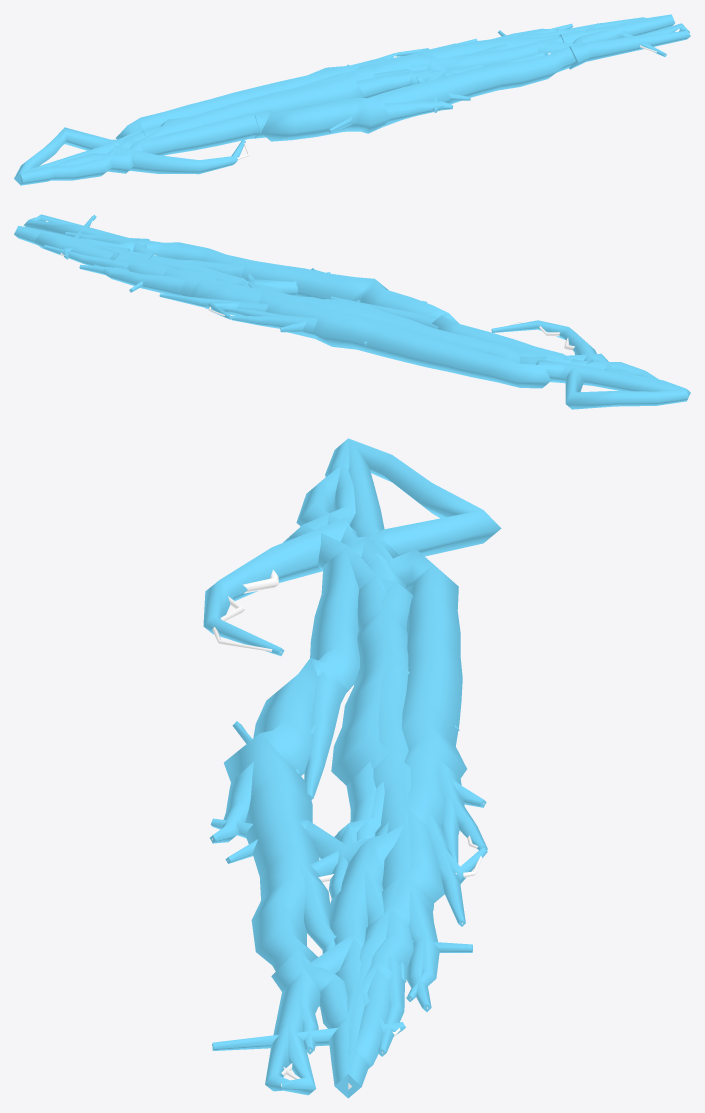
Rendered from ChainLightning.glb.
The picture shows the model from 3 angles, top to bottom: view 1: azimuth 30°, elevation 25°; view 2: azimuth 150°, elevation 25°; view 3: azimuth 270°, elevation 25°; orthographic projection. The views are drawn at different scales.
Parts seen in each view (by area): view 1: Bolt2Glow, Bolt3Glow, Bolt4Glow, Bolt1Glow; view 2: Bolt3Glow, Bolt2Glow, Bolt1Glow, Bolt4Glow; view 3: Bolt2Glow, Bolt3Glow, Bolt4Glow, Bolt1Glow, Bolt1Core.
Part boxes in pixels (x1,y1,x2,y2): Bolt2Glow: (14,16,655,184); Bolt3Glow: (21,14,690,172); Bolt4Glow: (20,17,666,185); Bolt1Glow: (25,14,669,180); Bolt3Glow: (23,214,685,391); Bolt2Glow: (14,226,688,409); Bolt1Glow: (20,226,683,387); Bolt4Glow: (34,214,690,396); Bolt2Glow: (210,438,501,1097); Bolt3Glow: (210,439,487,1098); Bolt4Glow: (212,439,486,1068); Bolt1Glow: (203,439,487,1072); Bolt1Core: (212,569,482,924).
Bounding box in the file's own units: 1.01 × 0.052 × 0.1982.
2 materials, 2 textured.
